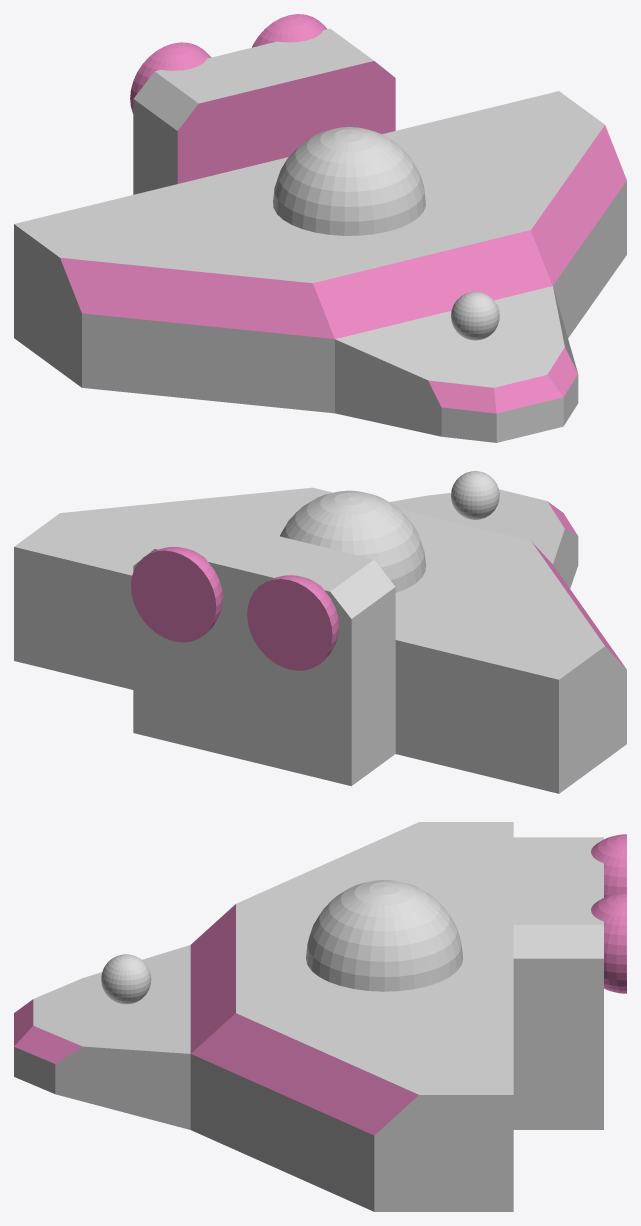
Rendered from scout.glb.
3 renders of one model, top to bottom at view 1: azimuth 30°, elevation 25°; view 2: azimuth 150°, elevation 25°; view 3: azimuth 270°, elevation 25°, orthographic. The views are drawn at different scales.
Parts seen in each view (by area): view 1: Cube, Sphere.003, Sphere.002; view 2: Cube, Sphere.003, Sphere.002; view 3: Cube, Sphere.002, Sphere.003.
Part boxes in pixels (box(x1,y1,x2,y2)): Cube: box(14, 28, 626, 442); Sphere.003: box(130, 42, 211, 113); Sphere.002: box(252, 14, 327, 47); Cube: box(14, 471, 626, 793); Sphere.003: box(247, 575, 339, 670); Sphere.002: box(131, 547, 222, 642); Cube: box(14, 822, 603, 1211); Sphere.002: box(591, 892, 626, 993); Sphere.003: box(591, 834, 626, 897).
Bounding box in the file's own units: 5 × 1.77 × 4.75.
